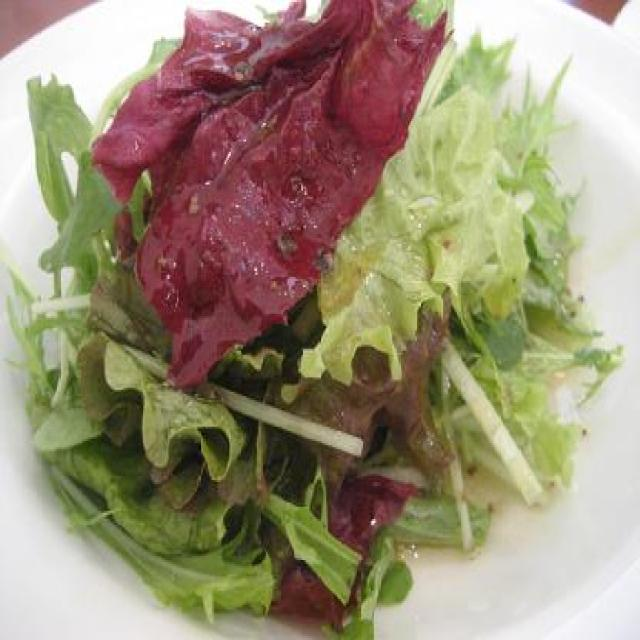蔬菜料理: (20, 0, 620, 622)
